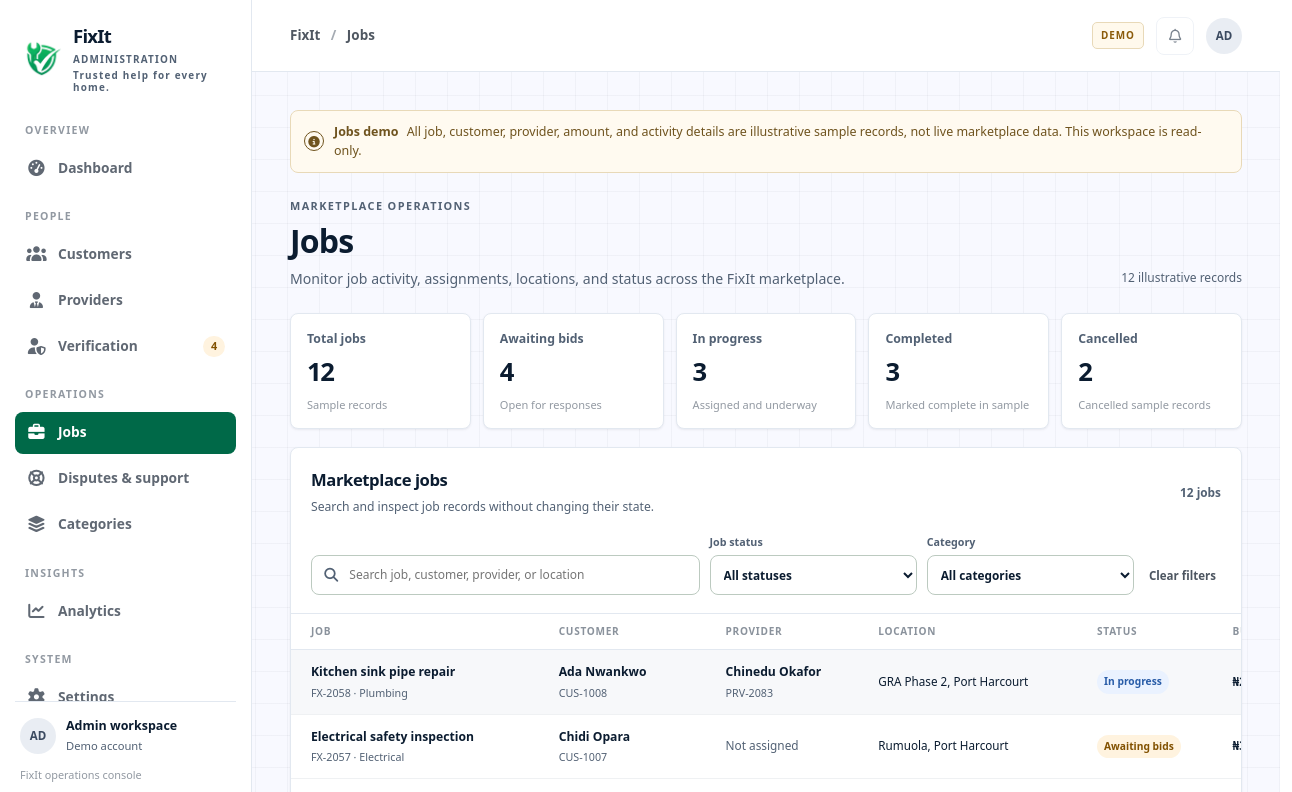
Test case: admin jobs workspace › searches jobs by customer, provider, and job details
Step 1. Type "Chinedu" into the search field named "Search jobs" → (517, 575), box left=347, top=565, right=688, bottom=585
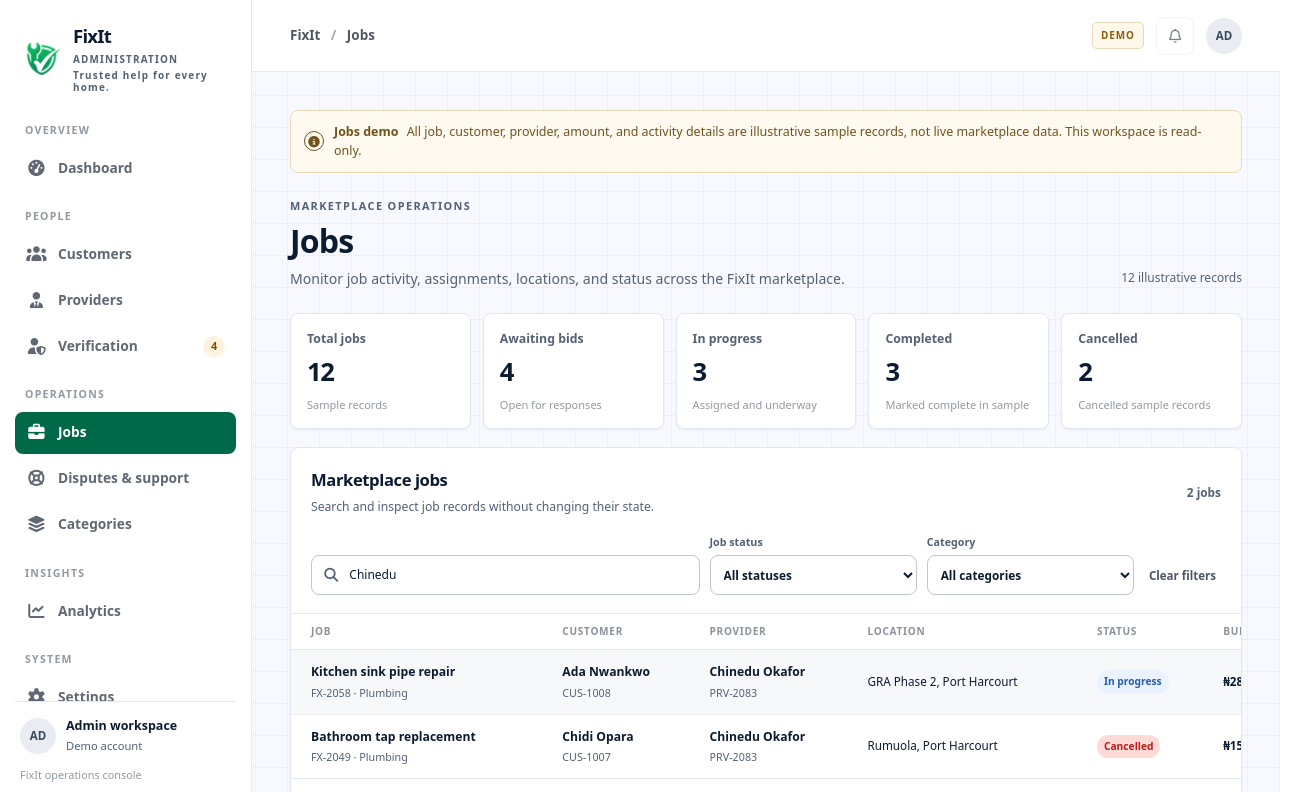
Check: the text "Kitchen sink pipe repair" is shown, box left=311, top=663, right=455, bottom=680
Step 2. Replace the text in the search field named "Search jobs" with "FX-2057" → (517, 575), box left=347, top=565, right=688, bottom=585
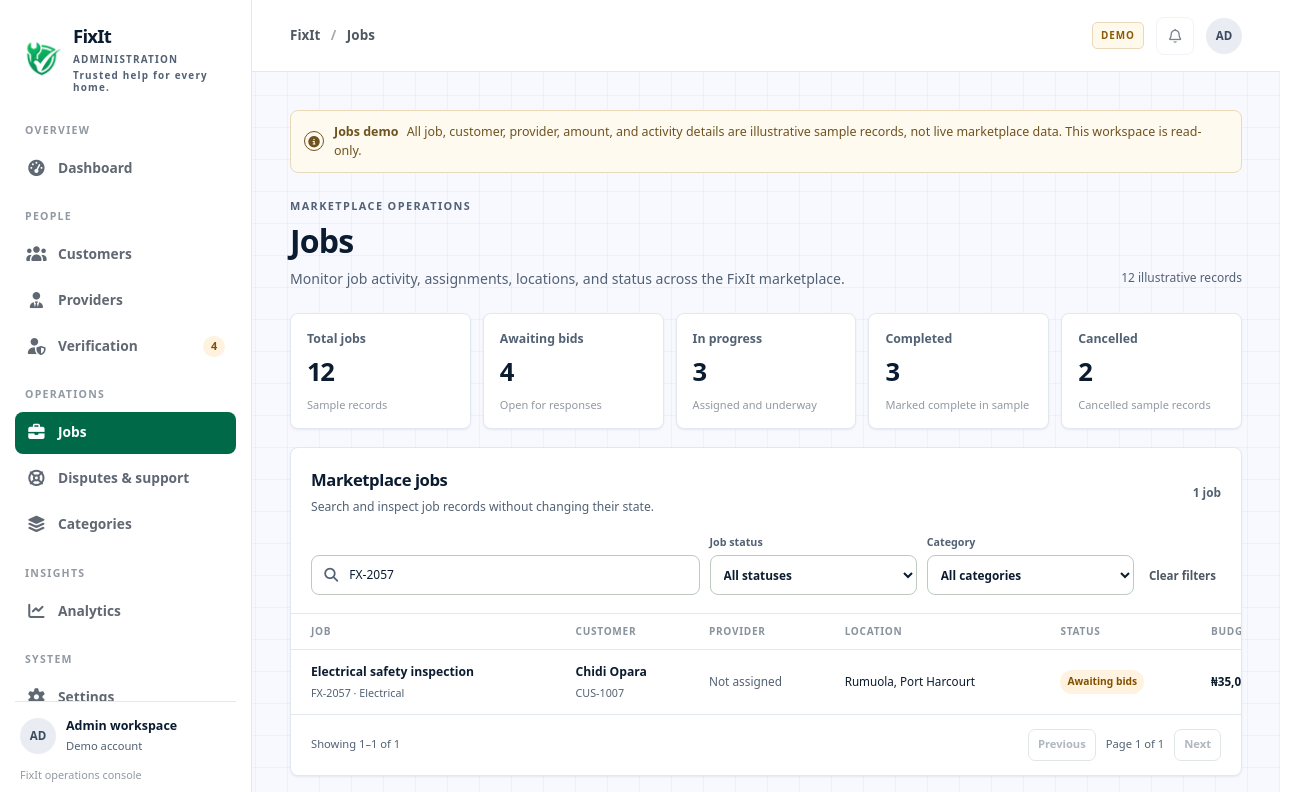
Check: the text "Electrical safety inspection" is shown, box left=311, top=663, right=474, bottom=680
